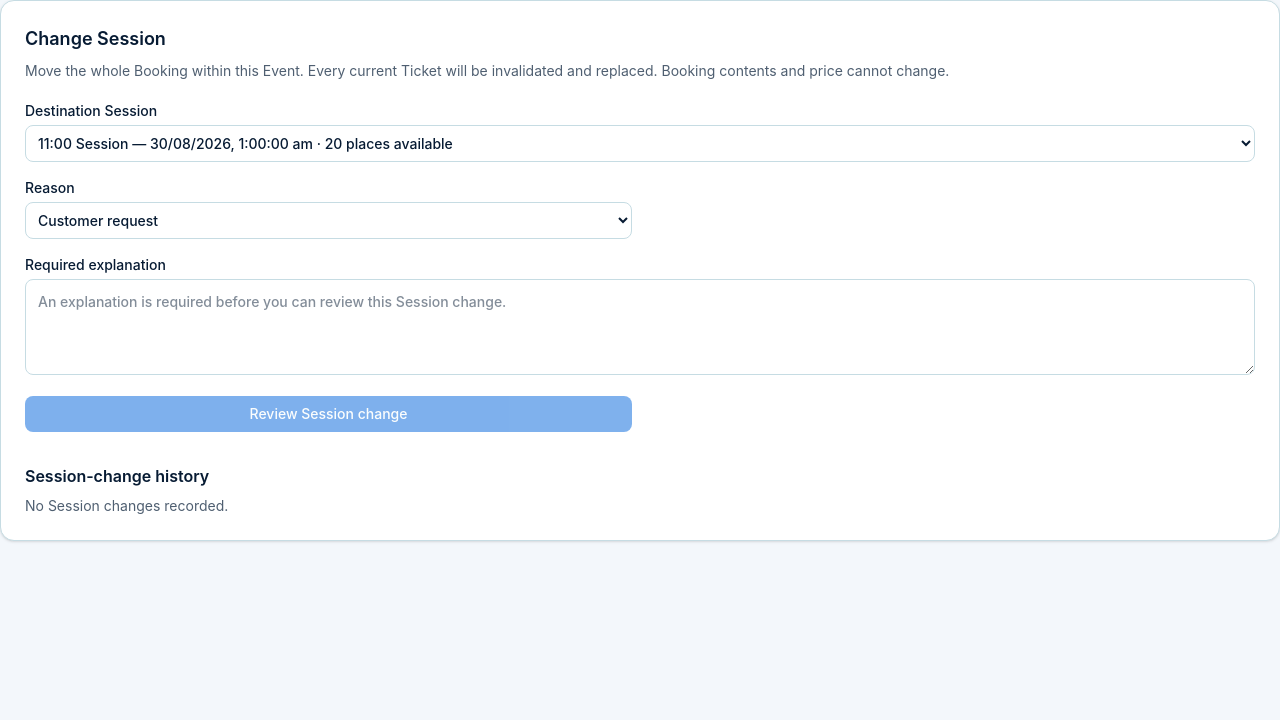
Test: BookingReschedulePanel › requires a reviewed whole-Booking impact before execution
Expected: the heading "Change Session" is shown, [25, 28, 166, 49]
In the text box named "Session-change explanation": (640, 327) [25, 279, 1255, 375], type "Customer needs a later time"
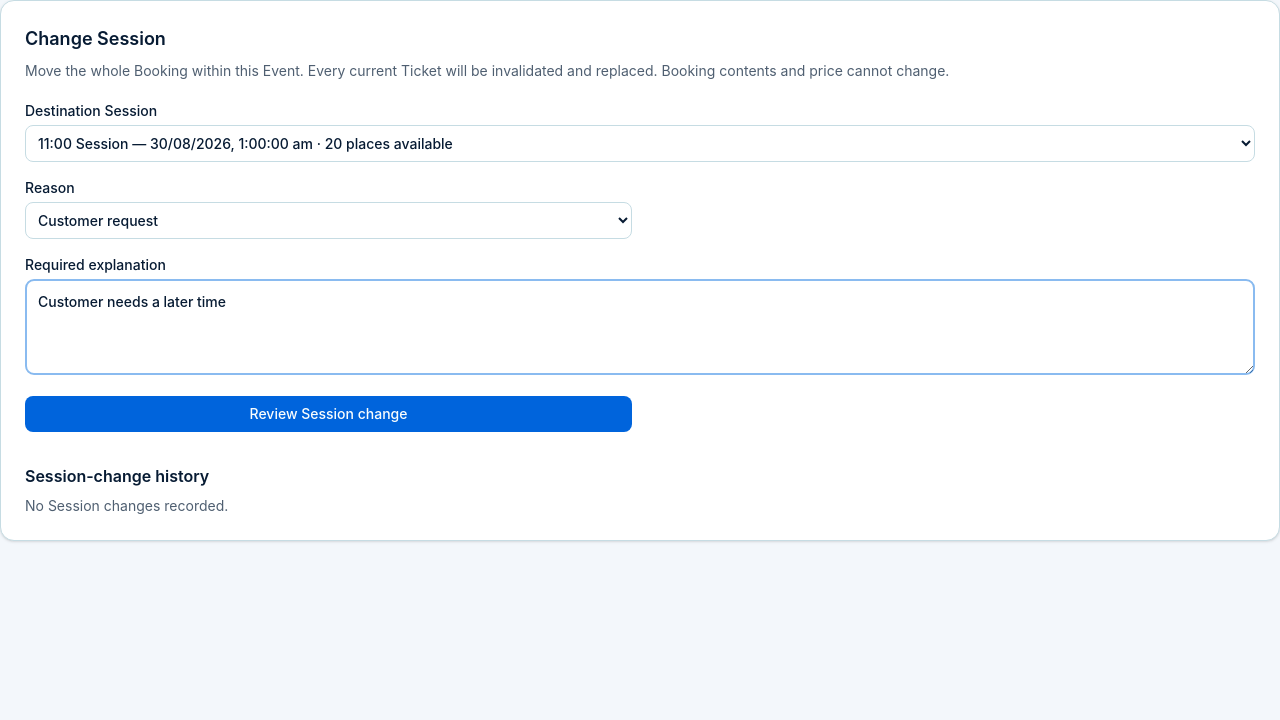
Click the button "Review Session change": (328, 414) [25, 396, 632, 432]
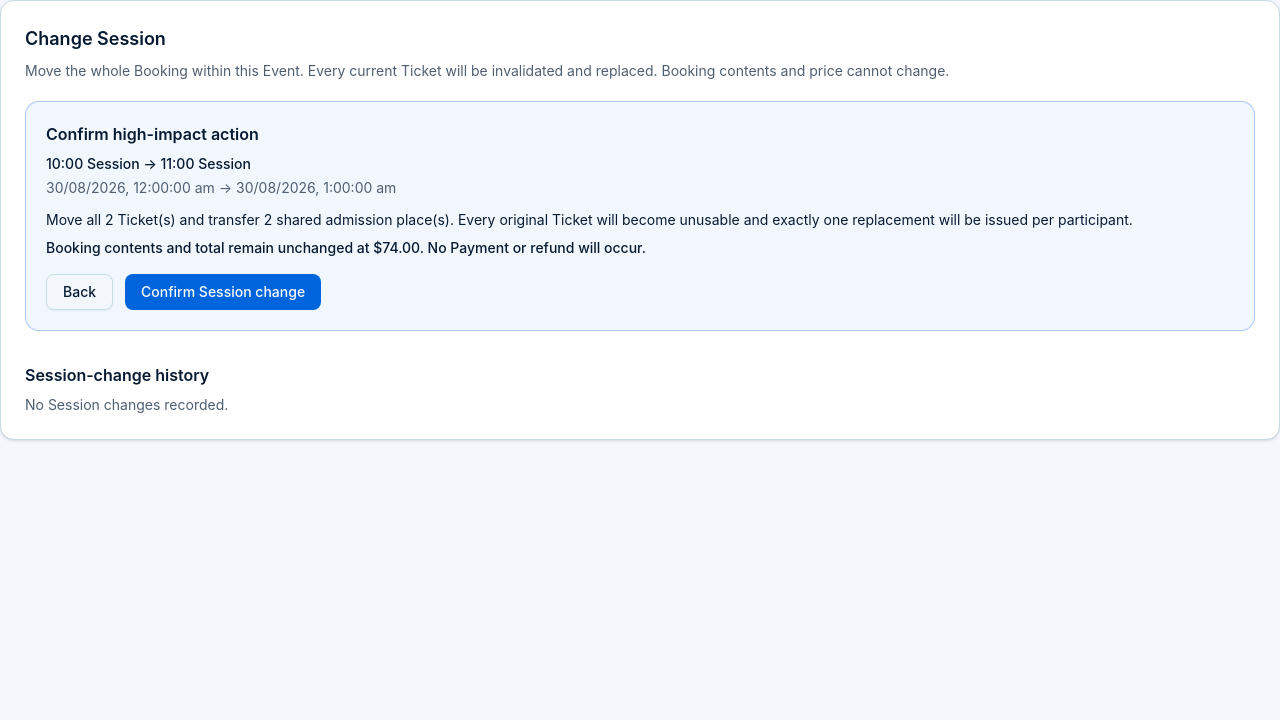
Result: the heading "Confirm high-impact action" is shown at [46, 124, 259, 144]
Result: the text "Every original Ticket will become unusable" is shown at [272, 211, 1133, 228]
Result: the text "No Payment or refund will occur" is shown at [420, 239, 646, 256]
